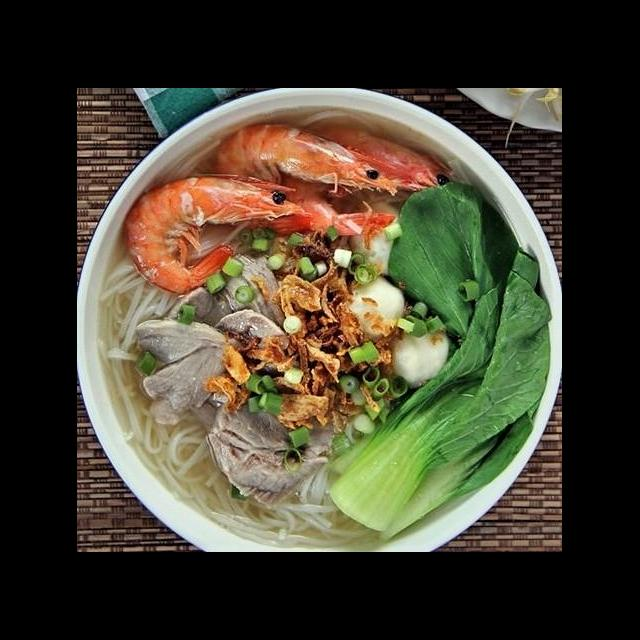banh hu tieu: (188, 444, 386, 552), (92, 250, 178, 367), (132, 407, 222, 506), (102, 352, 168, 456)
hu tieu: (78, 130, 562, 552)
thit heo: (202, 388, 348, 511), (130, 315, 246, 427), (220, 246, 294, 353), (208, 305, 302, 380), (160, 280, 233, 341)
tom: (120, 172, 318, 298), (212, 120, 404, 240), (274, 120, 463, 240)
trung: (347, 193, 418, 283), (334, 267, 414, 344), (388, 311, 454, 390)
